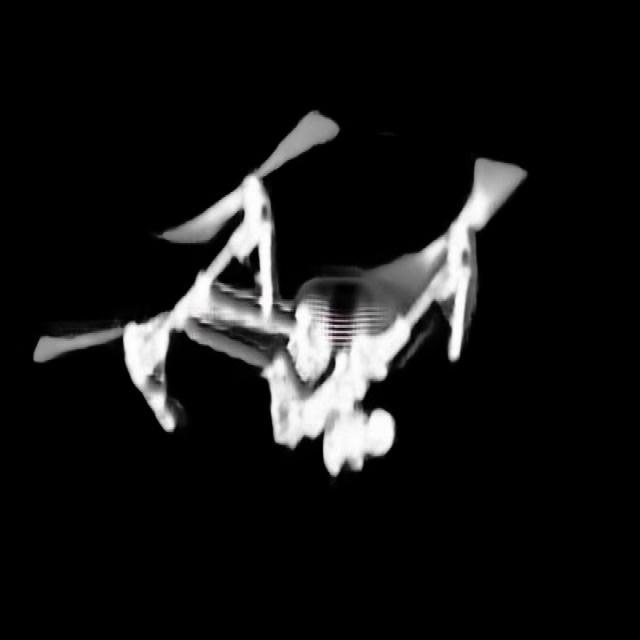drone: (28, 98, 534, 484)
